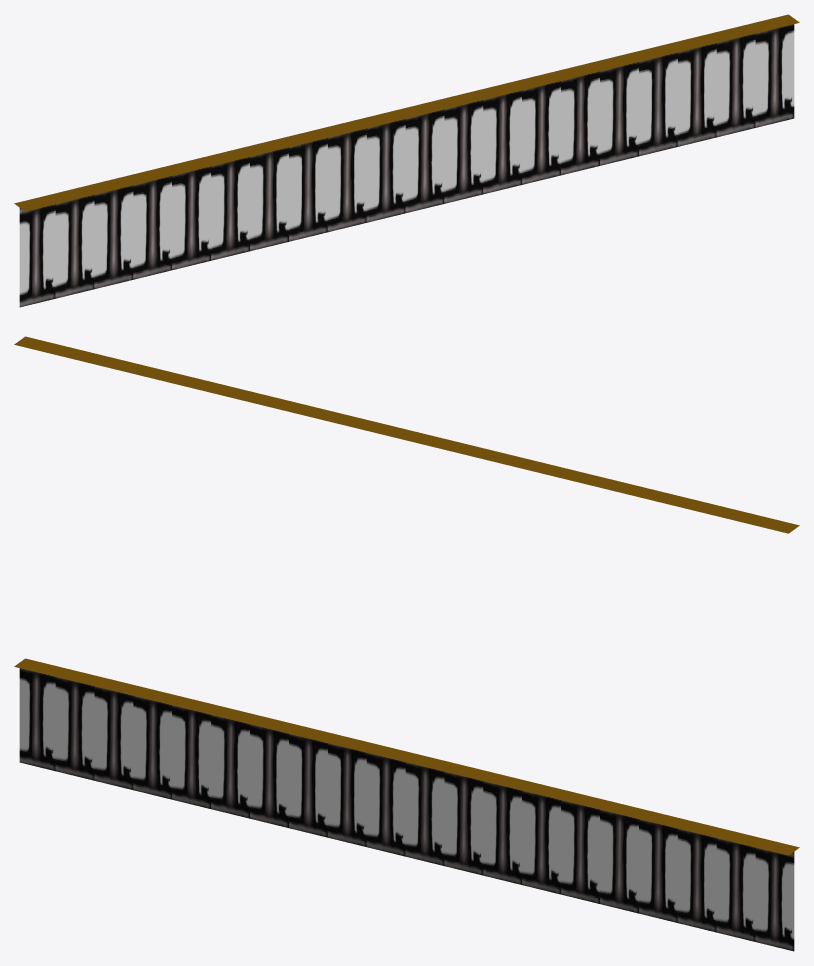
Rendered from Geländer4Hoch_962.glb.
3 views of the same model, one above another, from view 1: azimuth 30°, elevation 25°; view 2: azimuth 150°, elevation 25°; view 3: azimuth 330°, elevation 25° (orthographic).
Parts seen in each view (by area): view 1: pPlaneShape223, pPlaneShape224; view 2: pPlaneShape224; view 3: pPlaneShape223, pPlaneShape224.
Boxes of the visible parts, box(x1,y1,x2,y2) form: pPlaneShape223: box(19, 24, 794, 307); pPlaneShape224: box(14, 14, 799, 211); pPlaneShape224: box(14, 336, 799, 533); pPlaneShape223: box(19, 668, 794, 951); pPlaneShape224: box(14, 658, 799, 855).
Bounding box in the file's own units: 0.9614 × 0.1185 × 0.0243.
2 materials, 1 textured.
